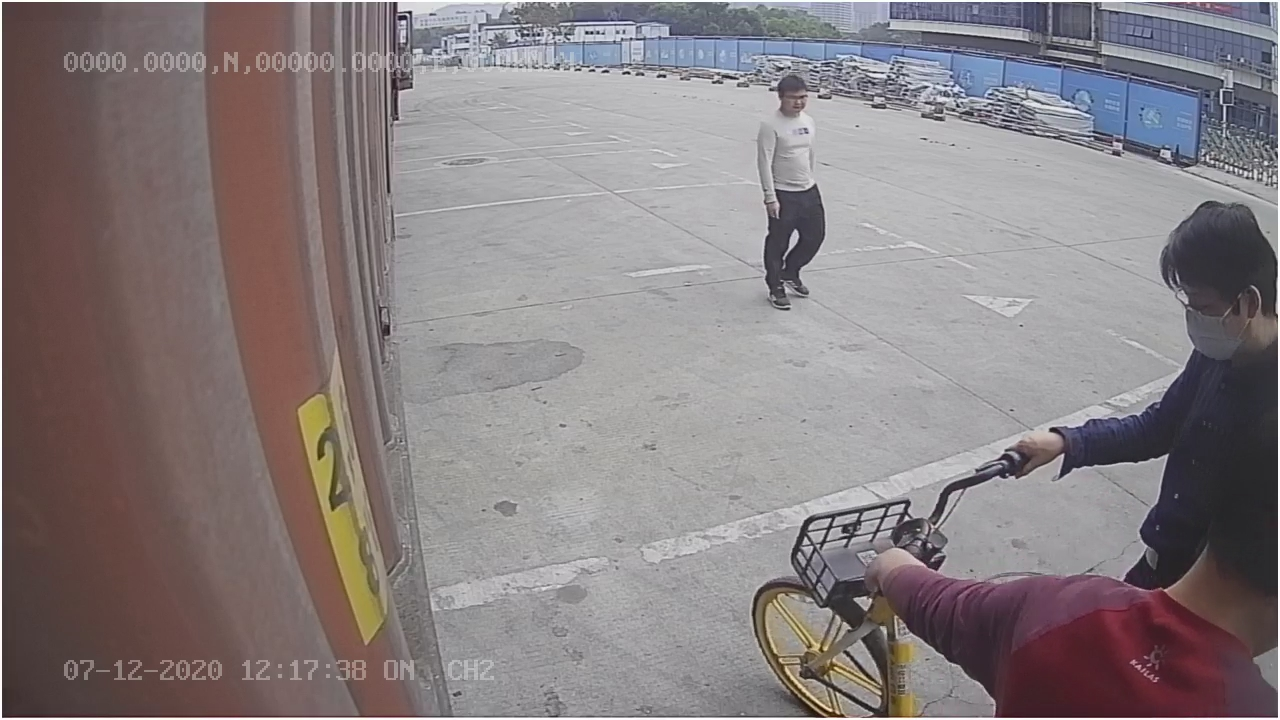person: (749, 72, 830, 315)
